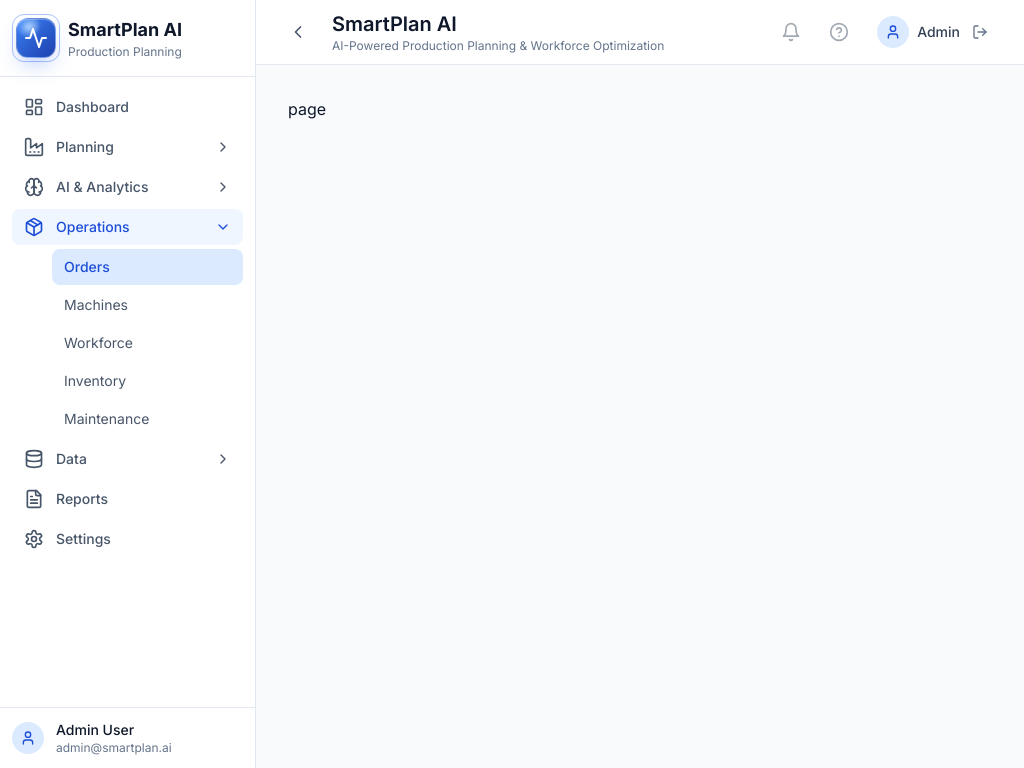
Test case: sidebar navigation › keeps the active group open by default and lets the user close it
Click the button "Operations".
click(128, 227)  # box [12,209,243,245]
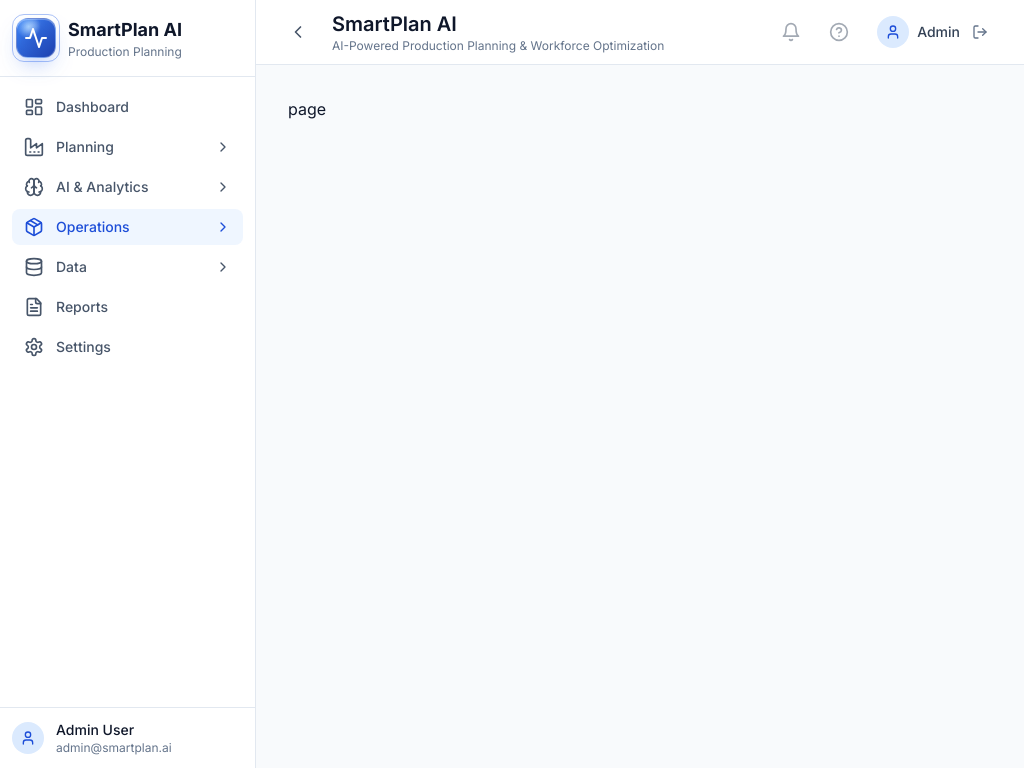
Expected: the button "Operations" is collapsed, [12,209,243,245]
